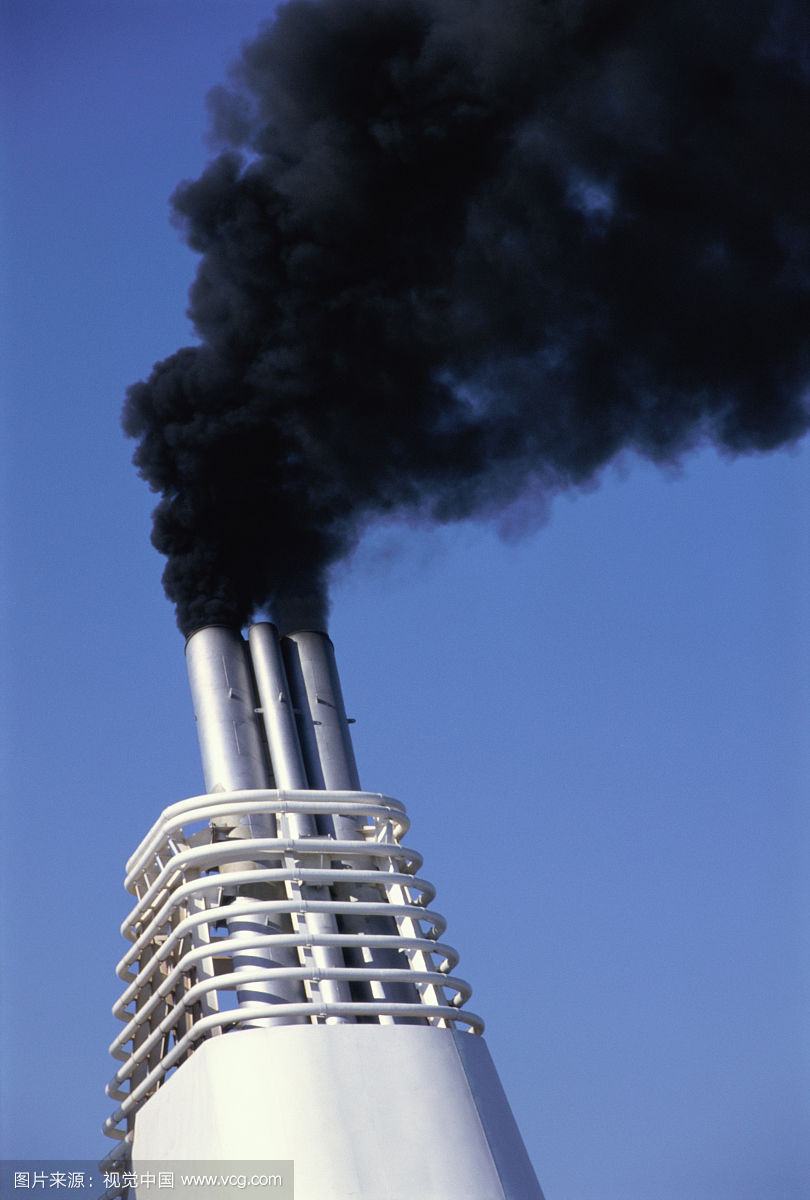dust: (128, 11, 596, 628)
